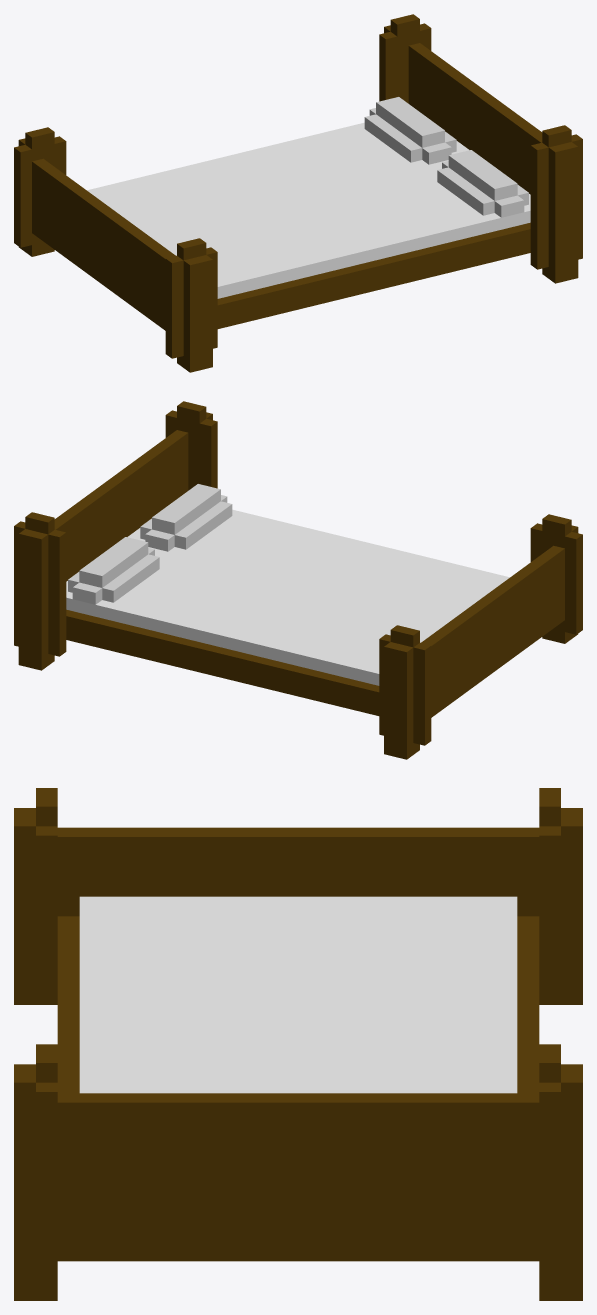
The model's file is F_BedNoBlanket.obj.
The picture shows the model from 3 angles, top to bottom: view 1: azimuth 30°, elevation 25°; view 2: azimuth 150°, elevation 25°; view 3: azimuth 270°, elevation 25°; orthographic projection. The views are drawn at different scales.
Size of the model in its own units: 3.6 by 1.2 by 2.6.
1 material, 1 textured.
